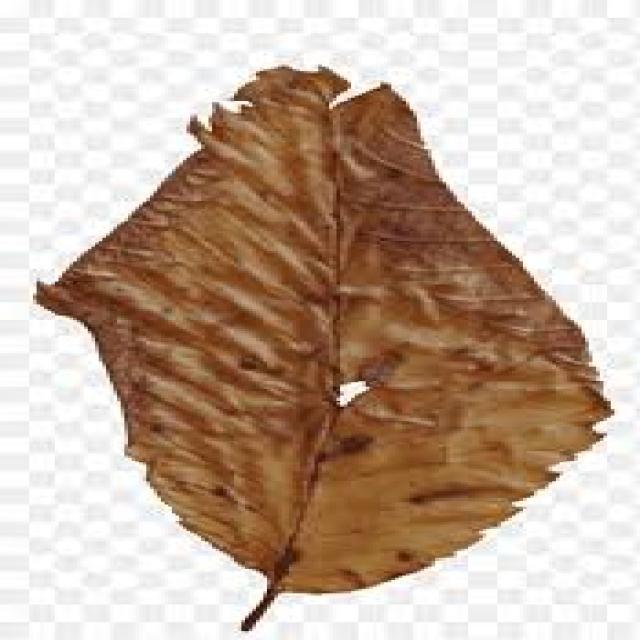leaf: (32, 63, 614, 628)
